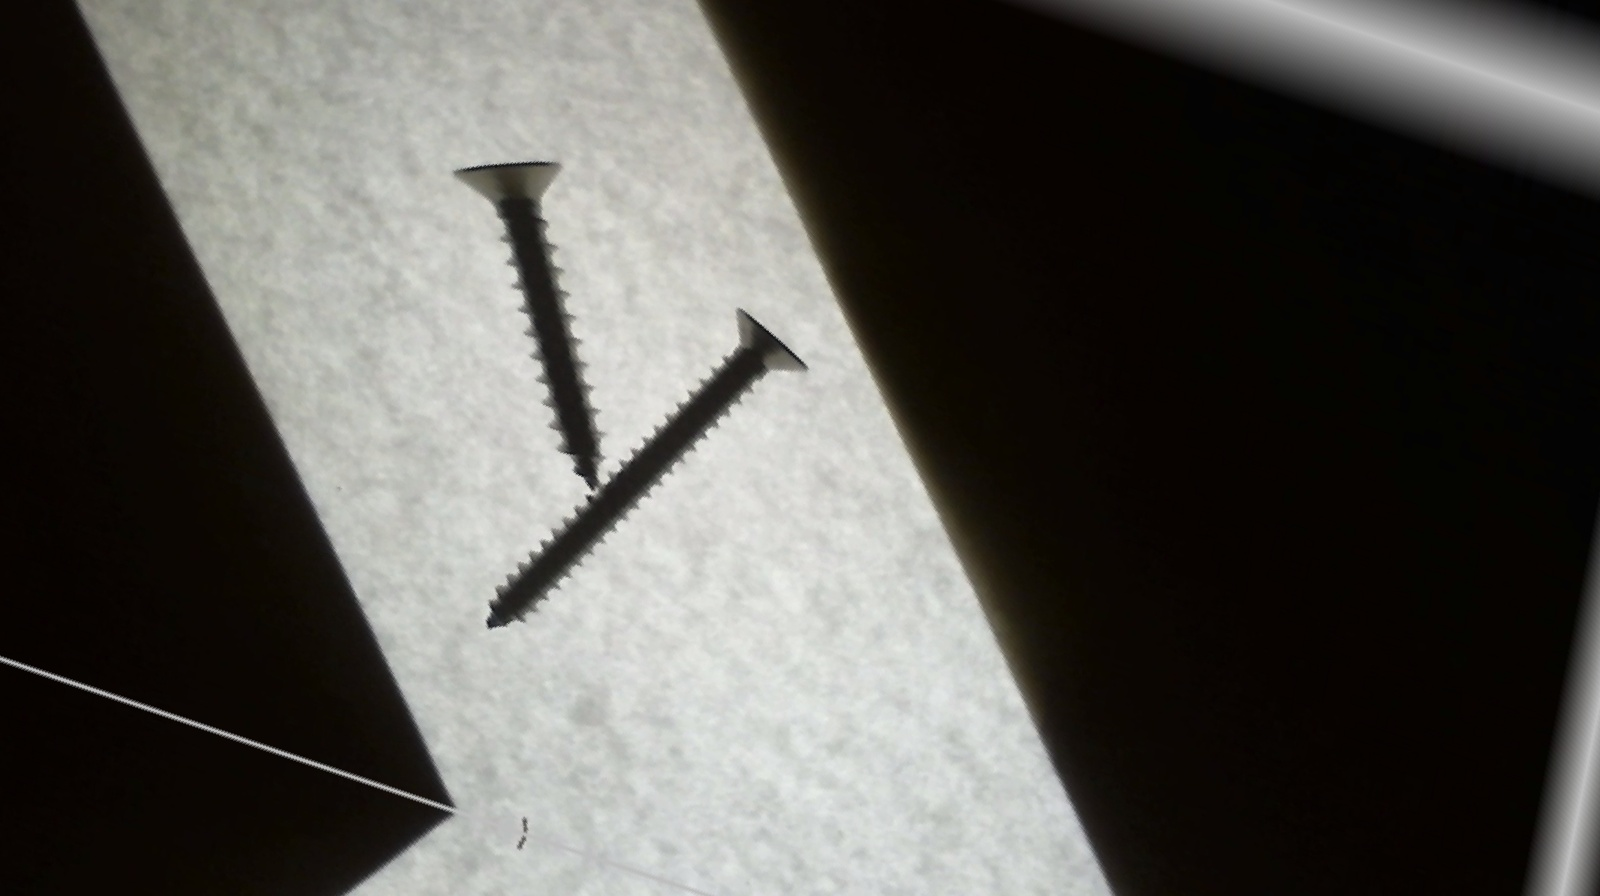S001: (405, 124, 658, 494)
S002: (471, 233, 820, 723)
